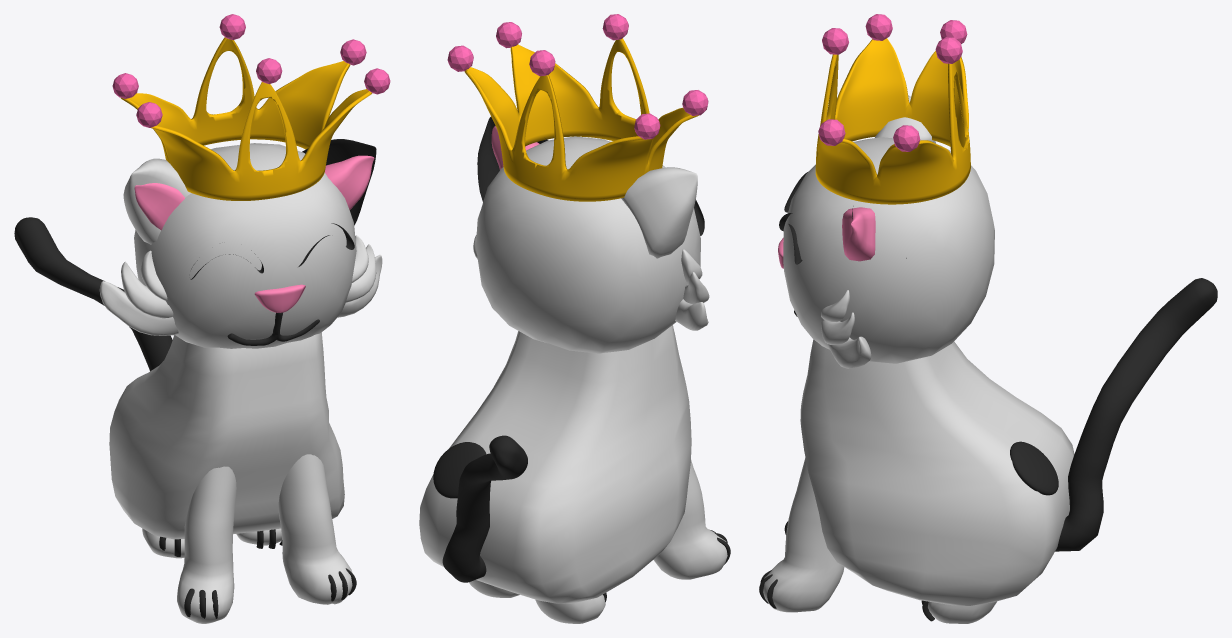
File: aurora-coronada.glb
The picture shows the model from 3 angles, left to right: view 1: azimuth 30°, elevation 25°; view 2: azimuth 150°, elevation 25°; view 3: azimuth 270°, elevation 25°; orthographic projection. The views are drawn at different scales.
Parts seen in each view (by area): view 1: Oreja derecha_0, Corona_4, object 4, Garras.001_2; view 2: Oreja derecha_0, Corona_4, object 4; view 3: Oreja derecha_0, Corona_4, object 4.
Part boxes in pixels (box(x1,y1,x2,y2)): Oreja derecha_0: box(14, 139, 382, 623); Corona_4: box(121, 37, 372, 200); object 4: box(112, 14, 390, 127); Garras.001_2: box(159, 529, 356, 618); Oreja derecha_0: box(419, 117, 727, 623); Corona_4: box(464, 38, 698, 201); object 4: box(447, 14, 708, 139); Oreja derecha_0: box(763, 95, 1217, 623); Corona_4: box(815, 38, 970, 204); object 4: box(818, 14, 967, 151).
Bounding box in the file's own units: 1.75 × 3.46 × 2.56.
